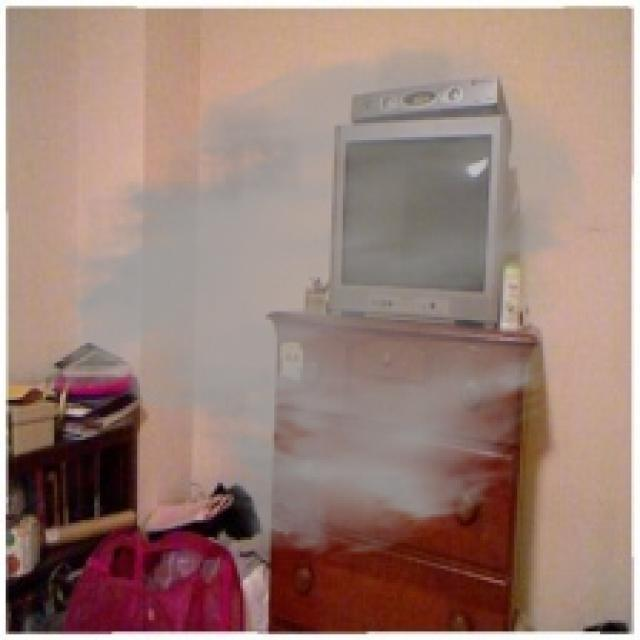Smoke: (34, 34, 592, 560)
